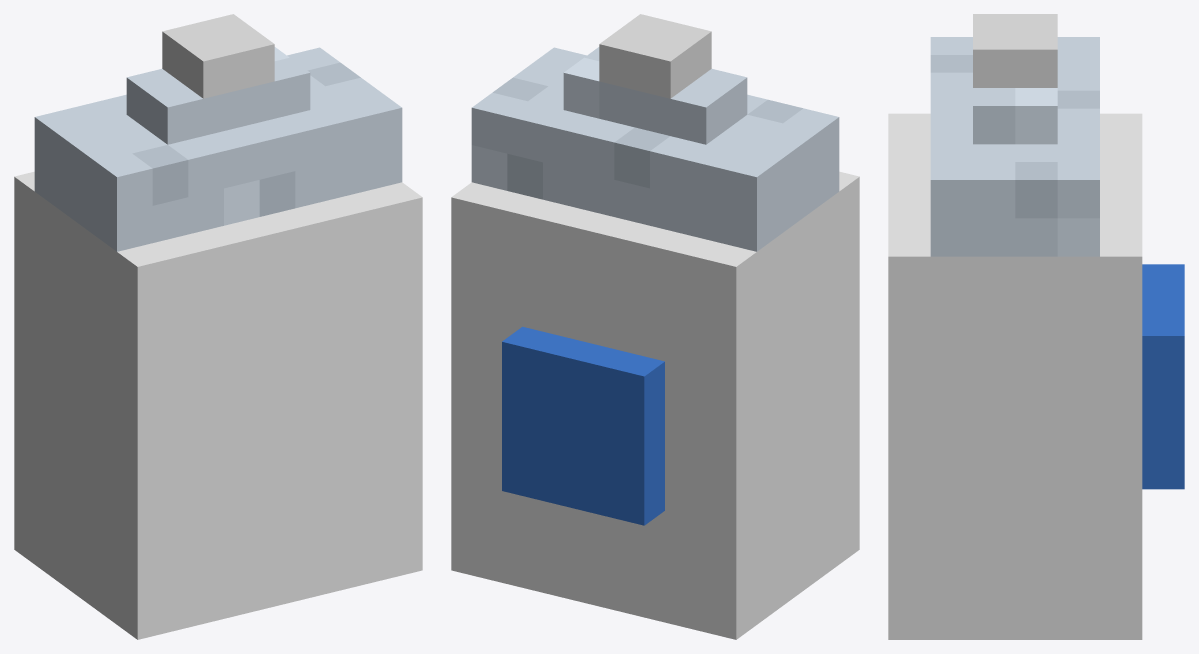
The model's file is leite.glb.
3 views of the same model, side by side, from view 1: azimuth 30°, elevation 25°; view 2: azimuth 150°, elevation 25°; view 3: azimuth 270°, elevation 25° (orthographic). The views are drawn at different scales.
Visible parts, largest first — view 1: akuma_leite; view 2: akuma_leite; view 3: akuma_leite.
Part boxes in pixels (<box>): akuma_leite: <box>14,14,422,639</box>; akuma_leite: <box>451,14,859,639</box>; akuma_leite: <box>888,14,1184,639</box>.
Size of the model in its own units: 0.16 by 0.28 by 0.14.
Materials: 1 (1 with a texture image).
